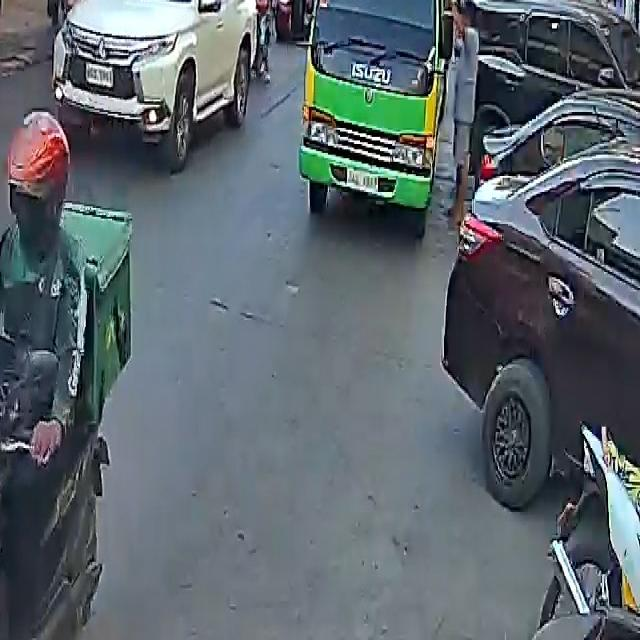car: (443, 73, 640, 523), (457, 0, 640, 197), (50, 0, 262, 165), (277, 0, 328, 41)
